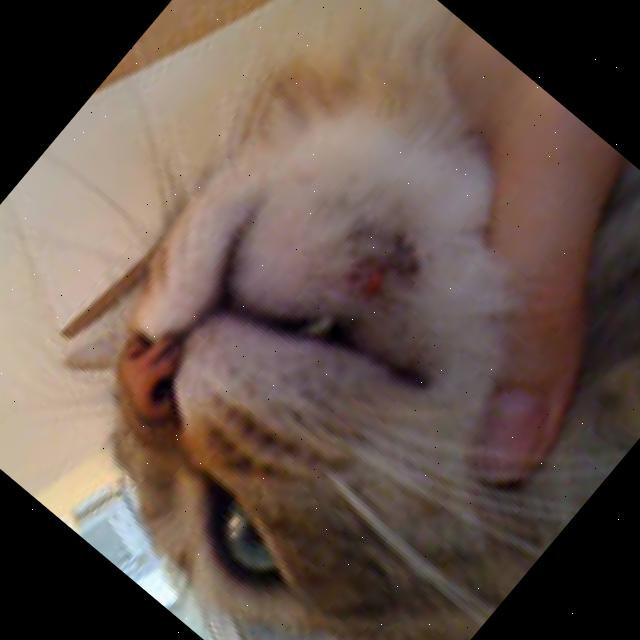cat-acne: (299, 178, 462, 344)
